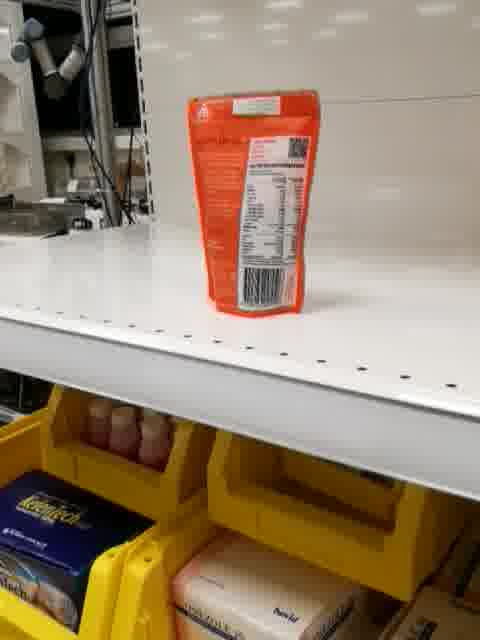whitechia: (183, 87, 326, 320)
